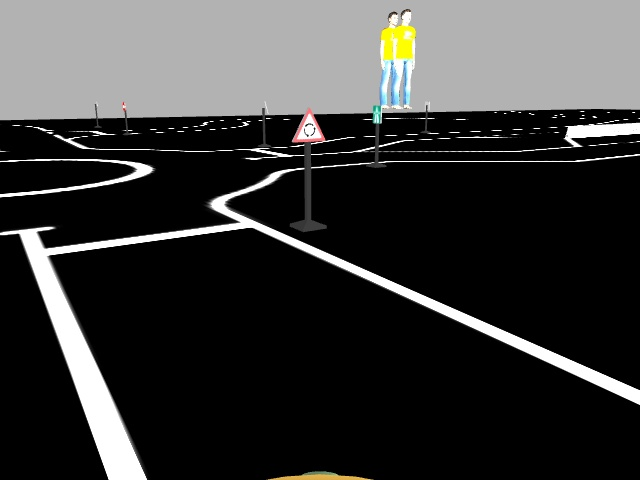HighwayEntrance: (369, 102, 384, 125)
Roundabout: (288, 107, 327, 144)
